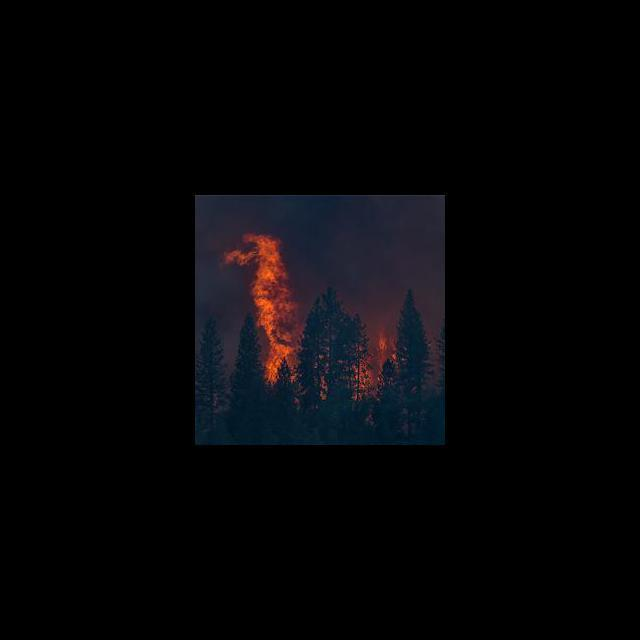Fire: (221, 230, 302, 381), (352, 328, 394, 396)
